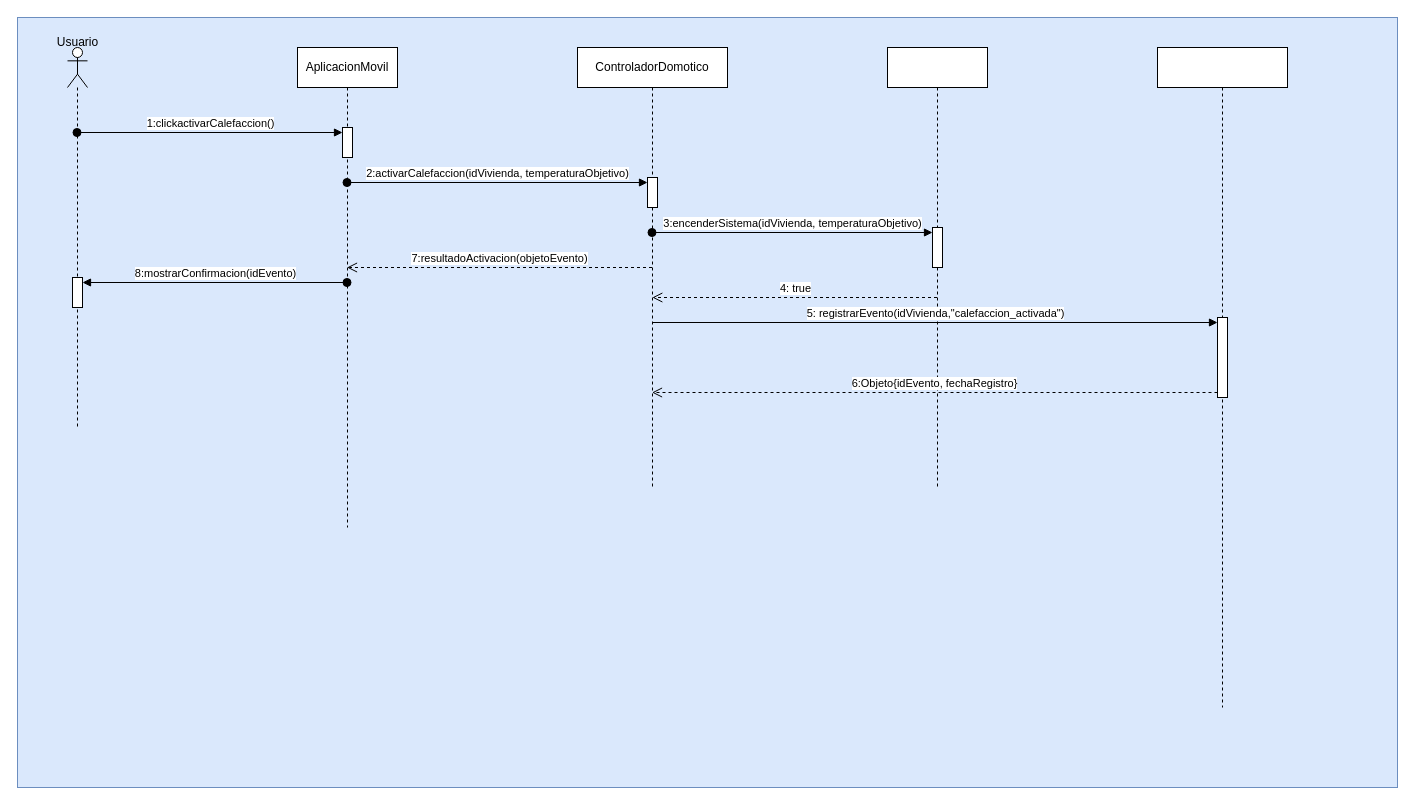
Some shapes in this 1415 by 805 pixel diagram are drawn without their labels. Each missing label, with the centre of its shape:
RepositorioEventos: [1222,377]
ServicioClima: [937,267]
